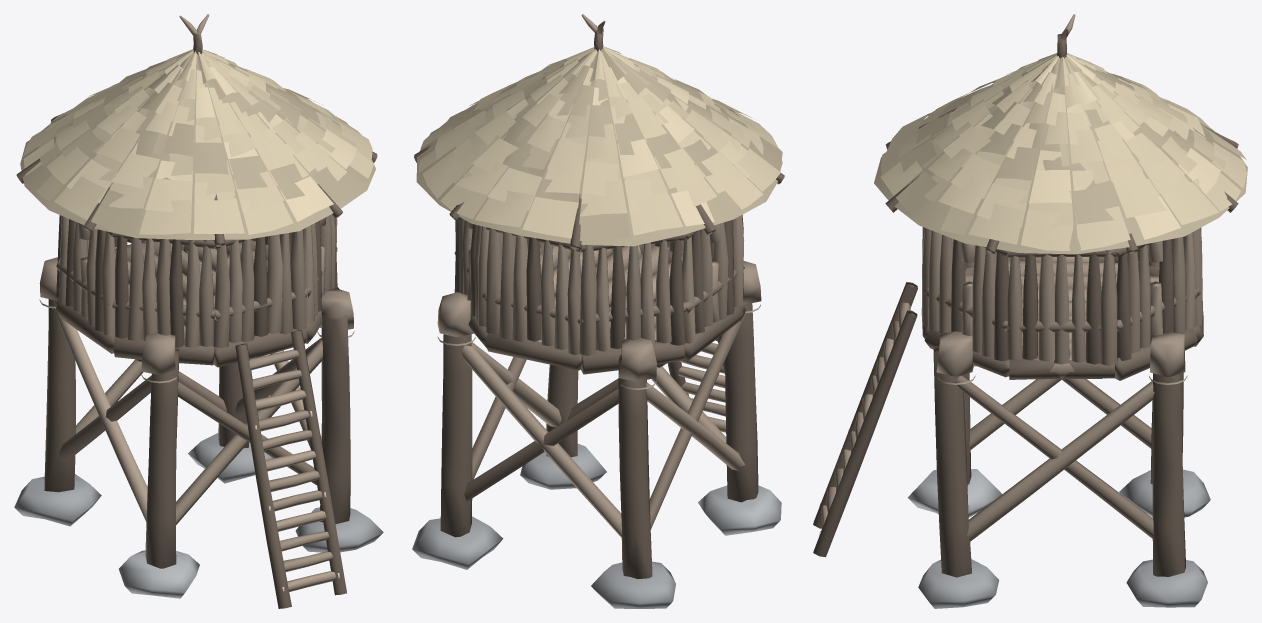
The model's file is Kuningriigid_Kiviaja_Vahitorn_V2.glb.
The picture shows the model from 3 angles, left to right: view 1: azimuth 30°, elevation 25°; view 2: azimuth 150°, elevation 25°; view 3: azimuth 270°, elevation 25°; orthographic projection. The views are drawn at different scales.
Parts seen in each view (by area): view 1: bark_organic_mesh, thatch_organic_mesh, wood_organic_mesh, thatch_dark_organic_mesh, wood_light_organic_mesh, thatch_light_organic_mesh, stone_dark_organic_mesh, bark_mid_organic_mesh, stone_organic_mesh; view 2: thatch_organic_mesh, bark_organic_mesh, wood_organic_mesh, thatch_dark_organic_mesh, wood_light_organic_mesh, bark_mid_organic_mesh, stone_dark_organic_mesh, thatch_light_organic_mesh, stone_organic_mesh; view 3: thatch_organic_mesh, bark_organic_mesh, wood_organic_mesh, thatch_dark_organic_mesh, wood_light_organic_mesh, stone_dark_organic_mesh, thatch_light_organic_mesh, bark_mid_organic_mesh, stone_organic_mesh.
Boxes of the visible parts, x1,y1,x2,y2 form: bark_organic_mesh: [16, 61, 377, 608]; thatch_organic_mesh: [23, 49, 374, 234]; wood_organic_mesh: [39, 214, 353, 571]; thatch_dark_organic_mesh: [20, 52, 375, 239]; wood_light_organic_mesh: [54, 14, 336, 591]; thatch_light_organic_mesh: [23, 51, 357, 221]; stone_dark_organic_mesh: [14, 433, 383, 552]; bark_mid_organic_mesh: [56, 32, 337, 485]; stone_organic_mesh: [119, 550, 199, 598]; thatch_organic_mesh: [420, 46, 780, 238]; bark_organic_mesh: [414, 104, 784, 578]; wood_organic_mesh: [437, 218, 761, 538]; thatch_dark_organic_mesh: [416, 48, 782, 246]; wood_light_organic_mesh: [467, 14, 745, 470]; bark_mid_organic_mesh: [454, 28, 745, 529]; stone_dark_organic_mesh: [412, 444, 675, 608]; thatch_light_organic_mesh: [418, 49, 750, 226]; stone_organic_mesh: [698, 485, 781, 535]; thatch_organic_mesh: [880, 53, 1246, 250]; bark_organic_mesh: [813, 108, 1238, 577]; wood_organic_mesh: [826, 227, 1202, 513]; thatch_dark_organic_mesh: [874, 54, 1247, 254]; wood_light_organic_mesh: [821, 14, 1202, 541]; stone_dark_organic_mesh: [918, 469, 1210, 608]; thatch_light_organic_mesh: [880, 55, 1220, 239]; bark_mid_organic_mesh: [924, 34, 1200, 538]; stone_organic_mesh: [907, 469, 1001, 517].
Bounding box in the file's own units: 5.07 × 7.92 × 5.87.
